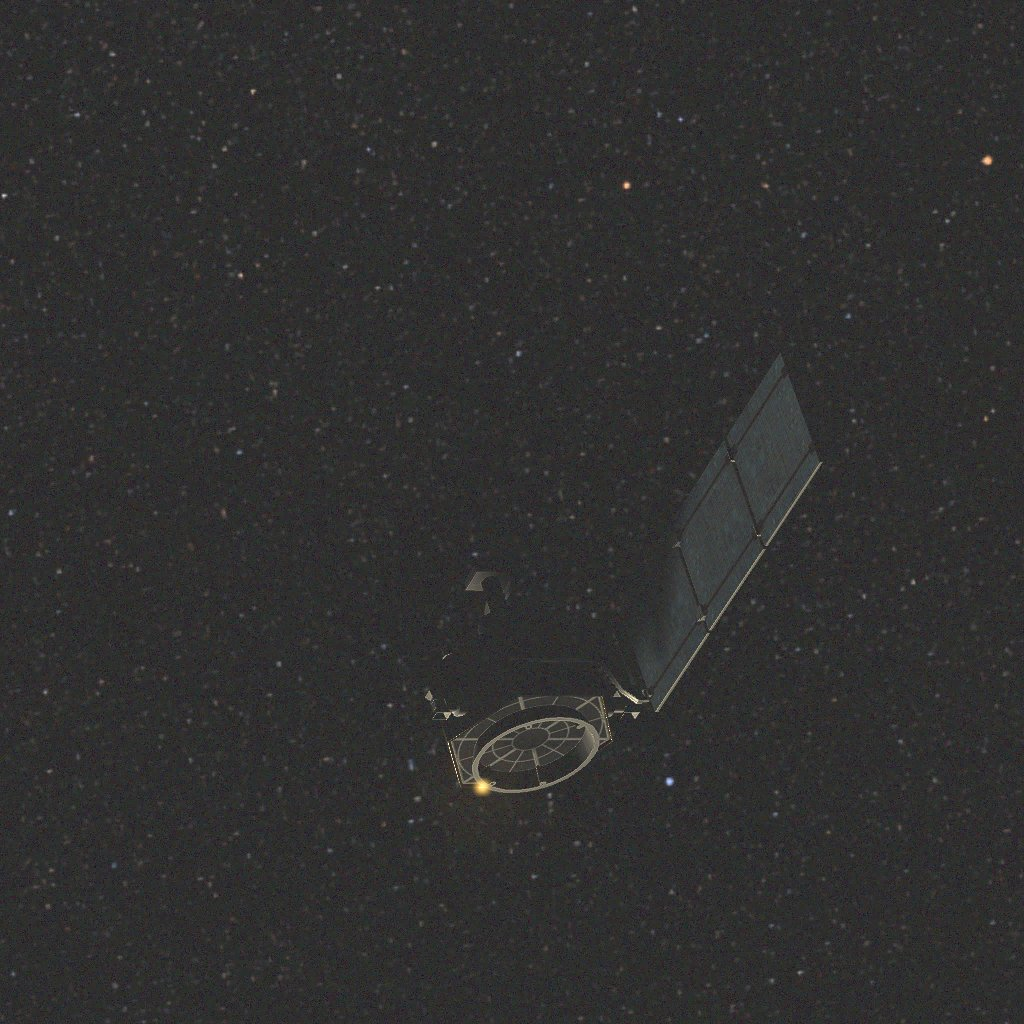earth_observation_sat_1: (422, 360, 833, 797)
